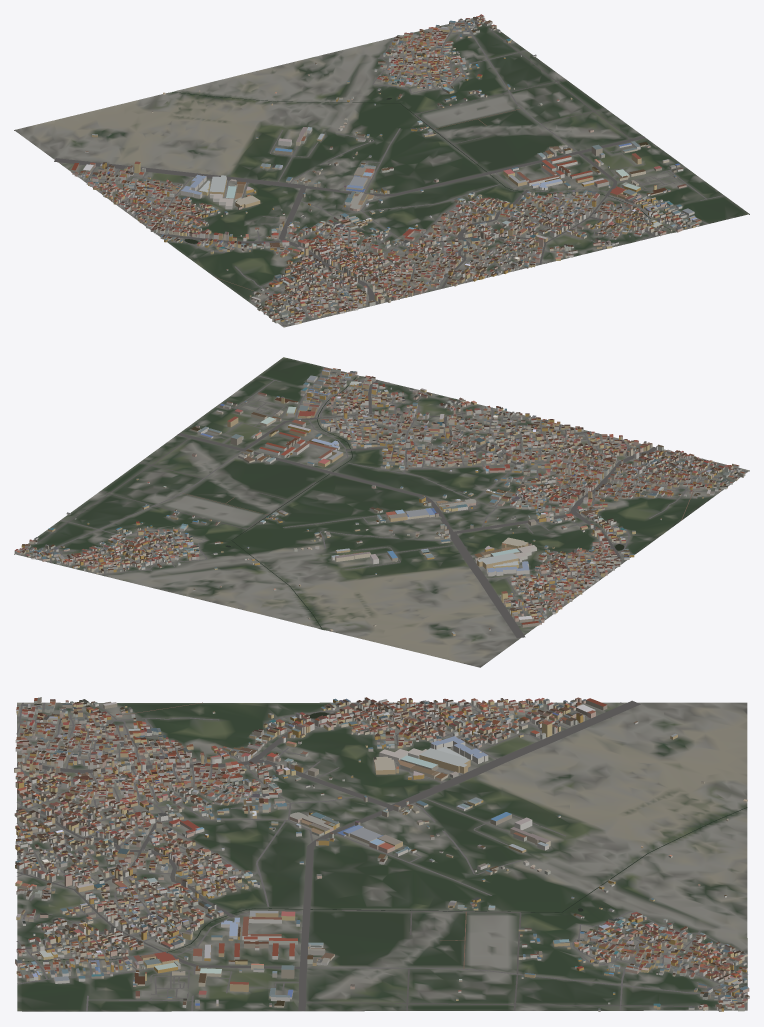
3 views of the same model, one above another, from view 1: azimuth 30°, elevation 25°; view 2: azimuth 150°, elevation 25°; view 3: azimuth 270°, elevation 25° (orthographic). The views are drawn at different scales.
Visible parts, largest first — view 1: ground, buildings, roads; view 2: ground, buildings, roads; view 3: ground, buildings, roads, water.
Boxes of the visible parts, box(x1,y1,x2,y2) form: ground: box(14, 18, 749, 327); buildings: box(71, 14, 701, 324); roads: box(54, 20, 723, 326); ground: box(14, 357, 749, 667); buildings: box(14, 368, 745, 635); roads: box(30, 367, 747, 638); ground: box(17, 702, 747, 1011); buildings: box(14, 697, 749, 1011); roads: box(16, 700, 747, 1011); water: box(22, 712, 747, 961).
Size of the model in its own units: 1413 by 31.3 by 1413.
